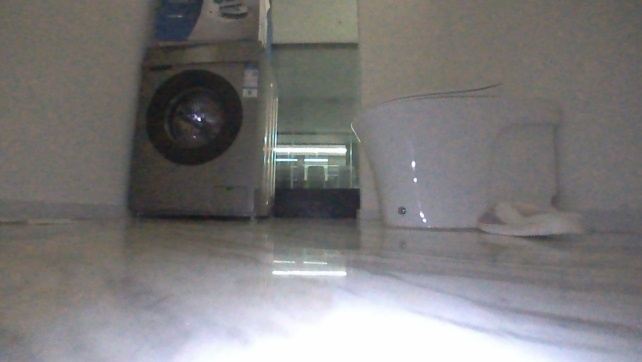shoe: (474, 197, 585, 241)
toilet: (350, 75, 566, 232)
washing_machine: (128, 40, 281, 221)
